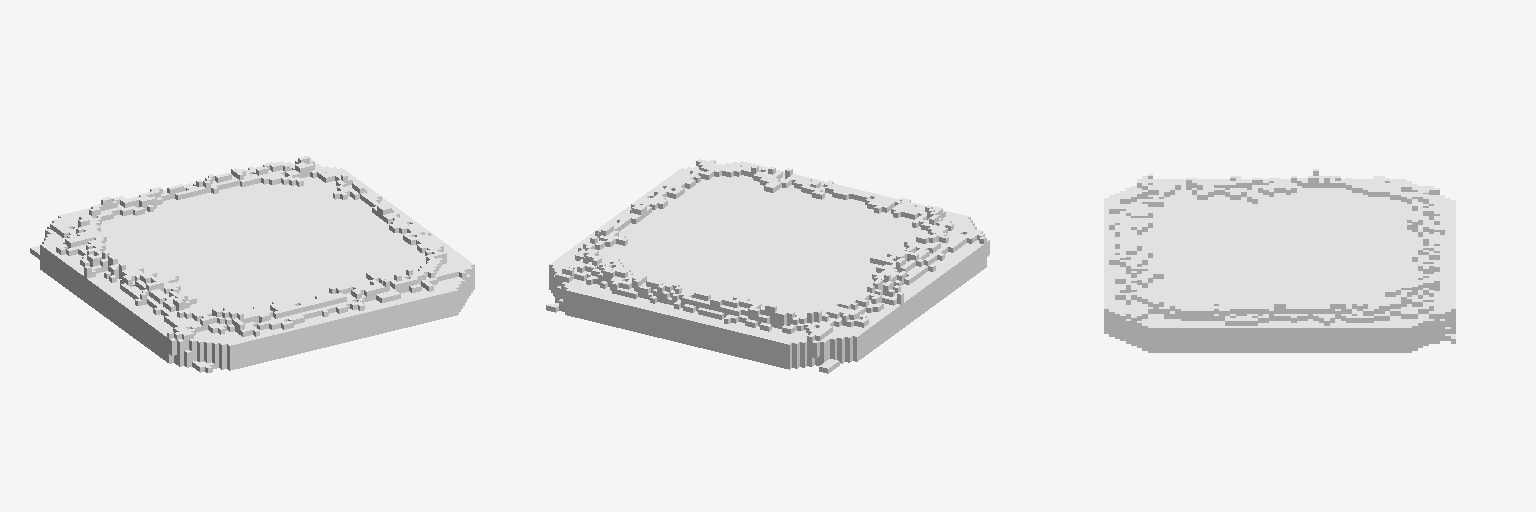
File: button_glued.obj
3 renders of one model, left to right at view 1: azimuth 30°, elevation 25°; view 2: azimuth 150°, elevation 25°; view 3: azimuth 270°, elevation 25°, orthographic.
Parts seen in each view (by area): view 1: object 1; view 2: object 1; view 3: object 1.
Part boxes in pixels (left/top/right/bottom): object 1: left=30, top=156, right=474, bottom=372; object 1: left=546, top=159, right=989, bottom=373; object 1: left=1104, top=169, right=1455, bottom=352.
Bounding box in the file's own units: 6.4 × 0.9 × 6.4.